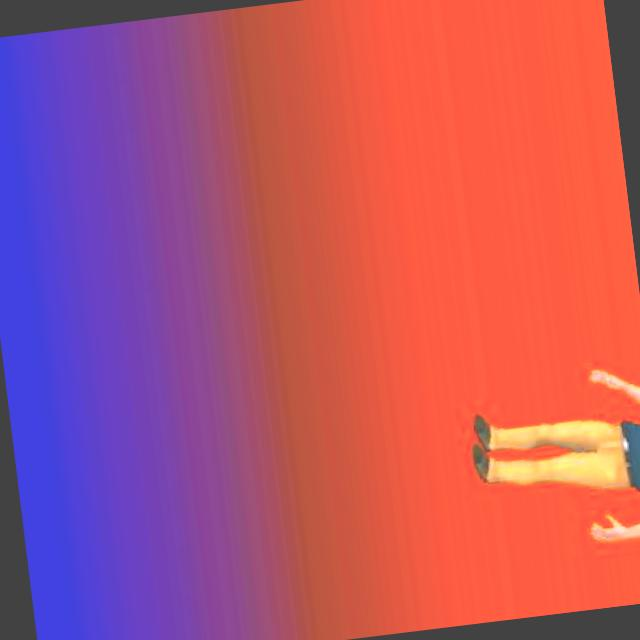Person: (459, 357, 640, 563)
